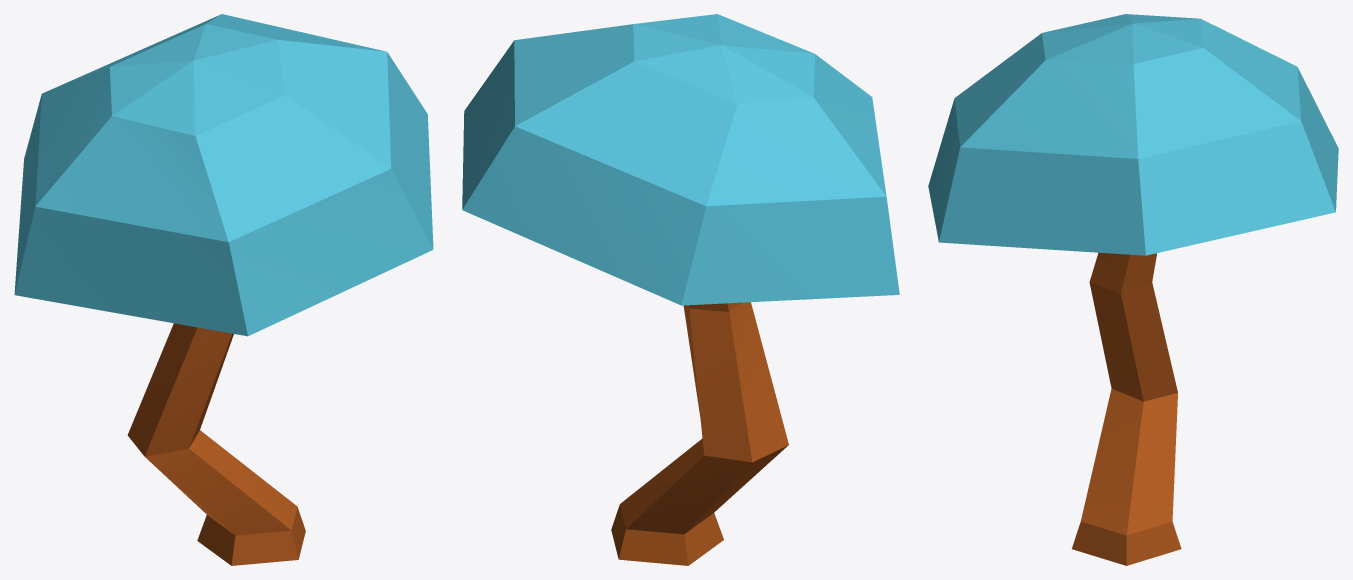
The model's file is Mushroom_d_a_02.fbx.
The picture shows the model from 3 angles, left to right: view 1: azimuth 30°, elevation 25°; view 2: azimuth 150°, elevation 25°; view 3: azimuth 270°, elevation 25°; orthographic projection. The views are drawn at different scales.
Parts seen in each view (by area): view 1: Mushroom_d_a_02_LOD0; view 2: Mushroom_d_a_02_LOD0; view 3: Mushroom_d_a_02_LOD0.
Boxes of the visible parts, left/top/right/bottom form: Mushroom_d_a_02_LOD0: left=14, top=14, right=433, bottom=565; Mushroom_d_a_02_LOD0: left=462, top=14, right=899, bottom=565; Mushroom_d_a_02_LOD0: left=928, top=14, right=1338, bottom=565.
Size of what is drawn, in the model's own units: 9.87 by 11.22 by 8.52.
